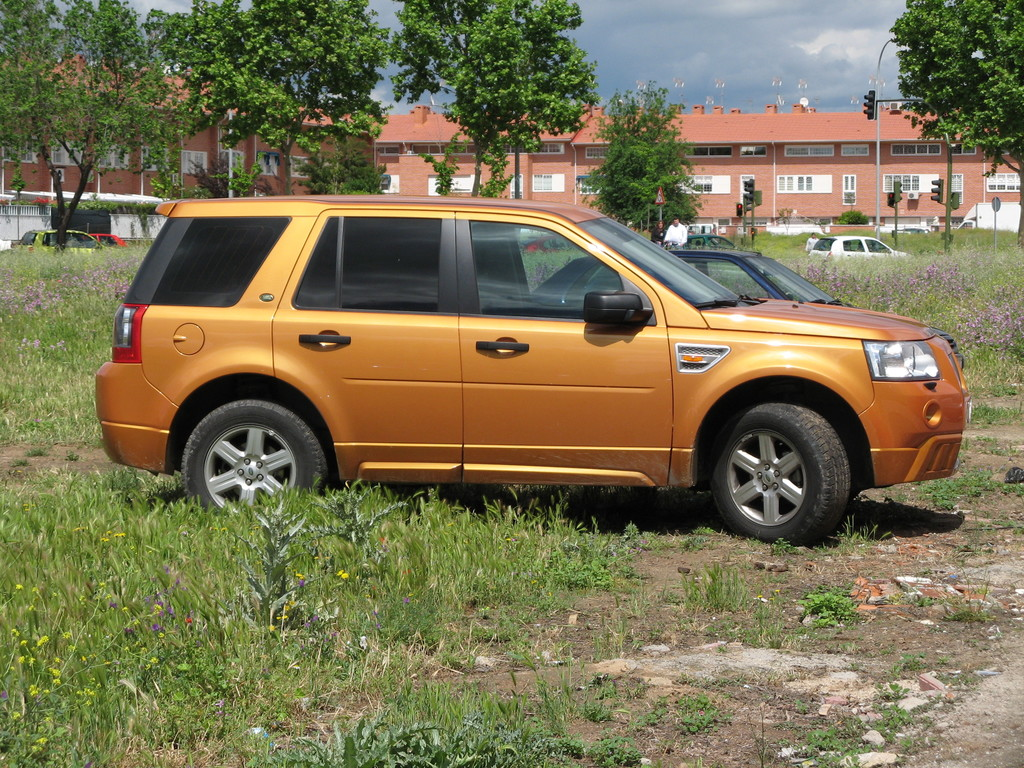Tree: (144, 0, 393, 196), (0, 0, 184, 254), (391, 0, 602, 197), (889, 0, 1024, 249), (571, 76, 707, 234), (292, 134, 387, 196)
